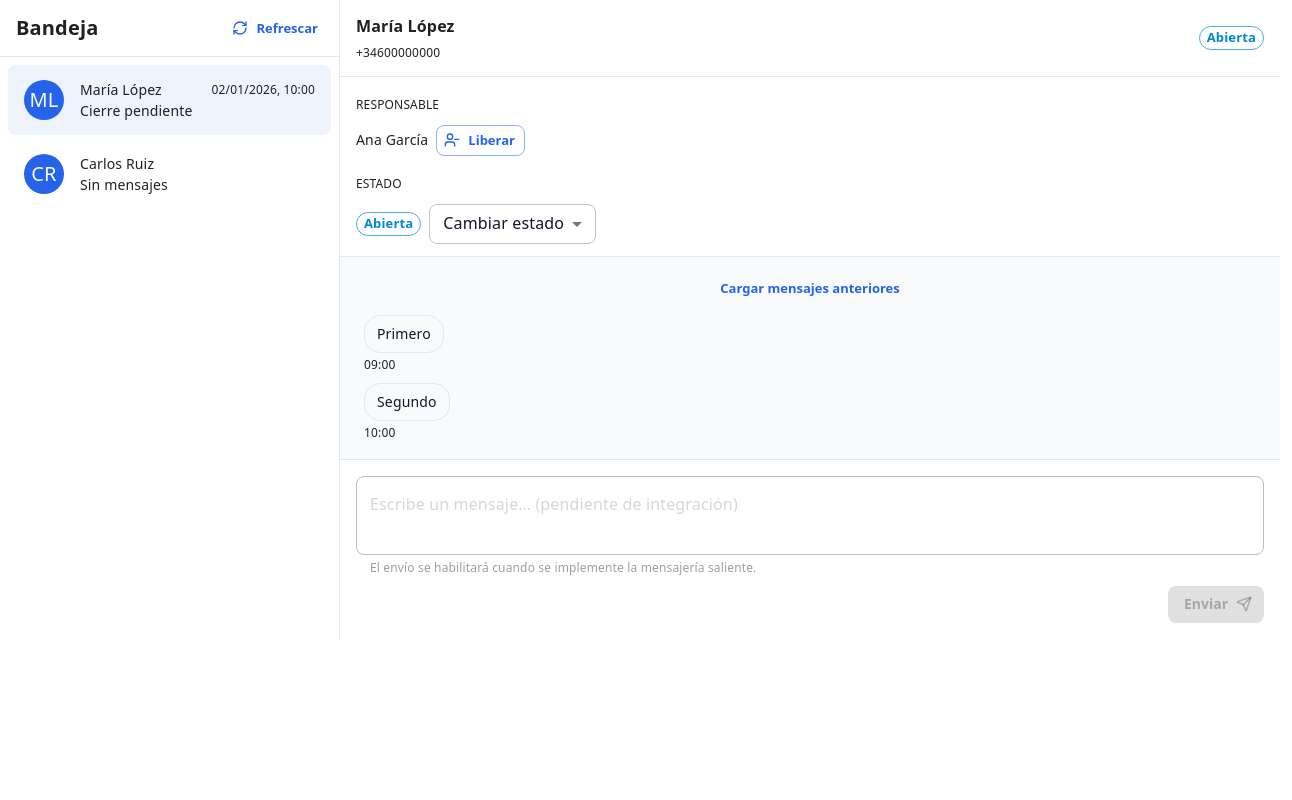
Test: InboxPage › conserva la posición de lectura al prepender mensajes anteriores
(page scrolled)
expect the text "Segundo" is shown: met, box [377,392,437,412]
Click the button "Cargar mensajes anteriores": [810, 288] box [715,273,905,303]
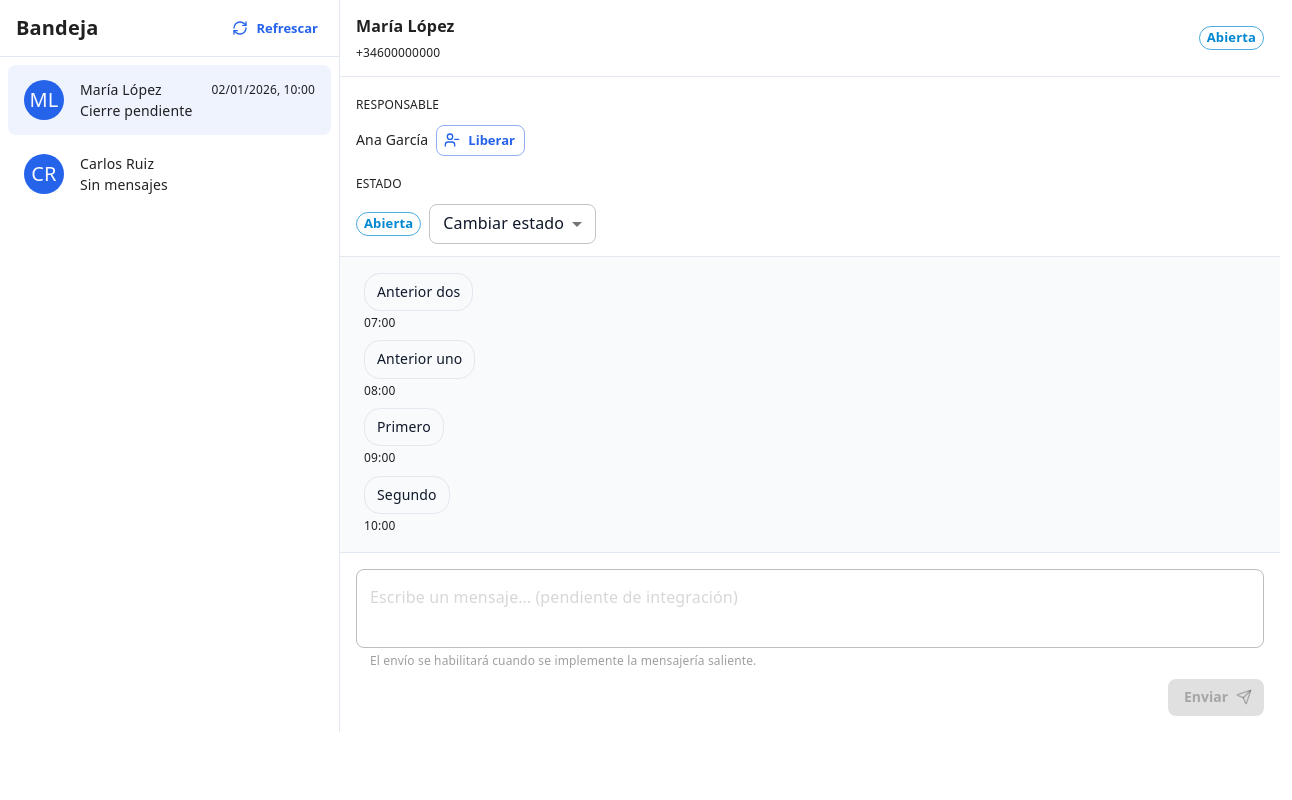
expect the text "Anterior uno" is shown: met, box [377,350,462,370]
